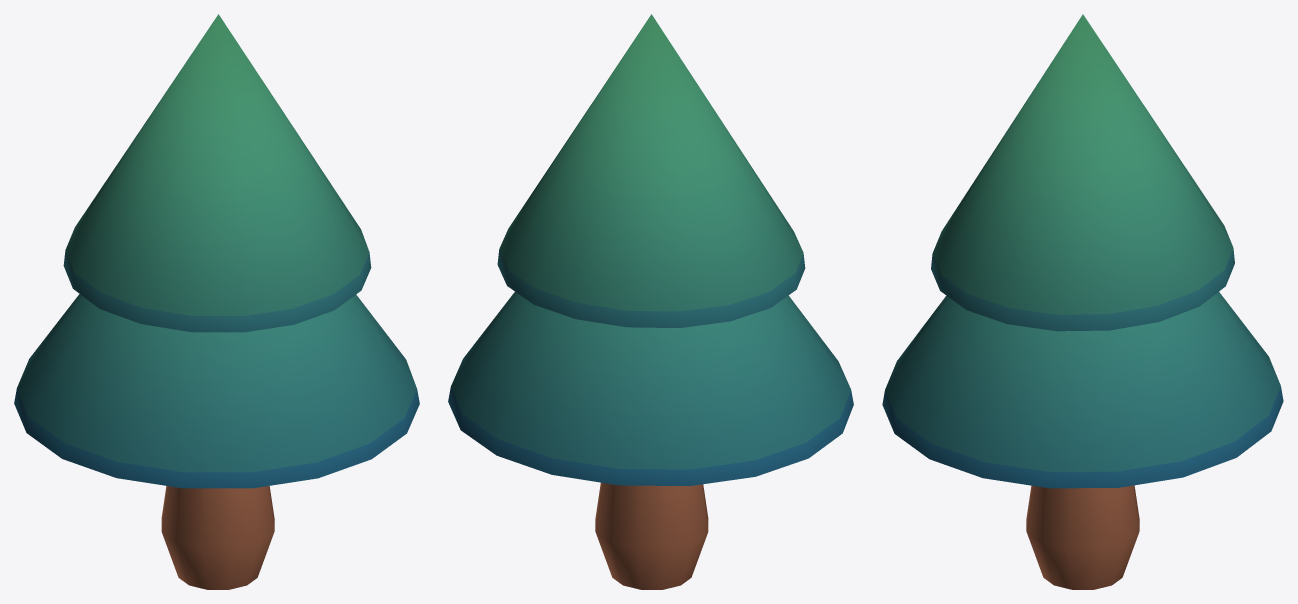
File: tree.fbx
3 views of the same model, side by side, from view 1: azimuth 30°, elevation 25°; view 2: azimuth 150°, elevation 25°; view 3: azimuth 270°, elevation 25° (orthographic).
Parts seen in each view (by area): view 1: tree; view 2: tree; view 3: tree.
Part boxes in pixels (box(x1,y1,x2,y2)): tree: box(14, 14, 419, 589); tree: box(448, 14, 853, 589); tree: box(882, 14, 1283, 589).
Bounding box in the file's own units: 2.28 × 3.49 × 2.27.
